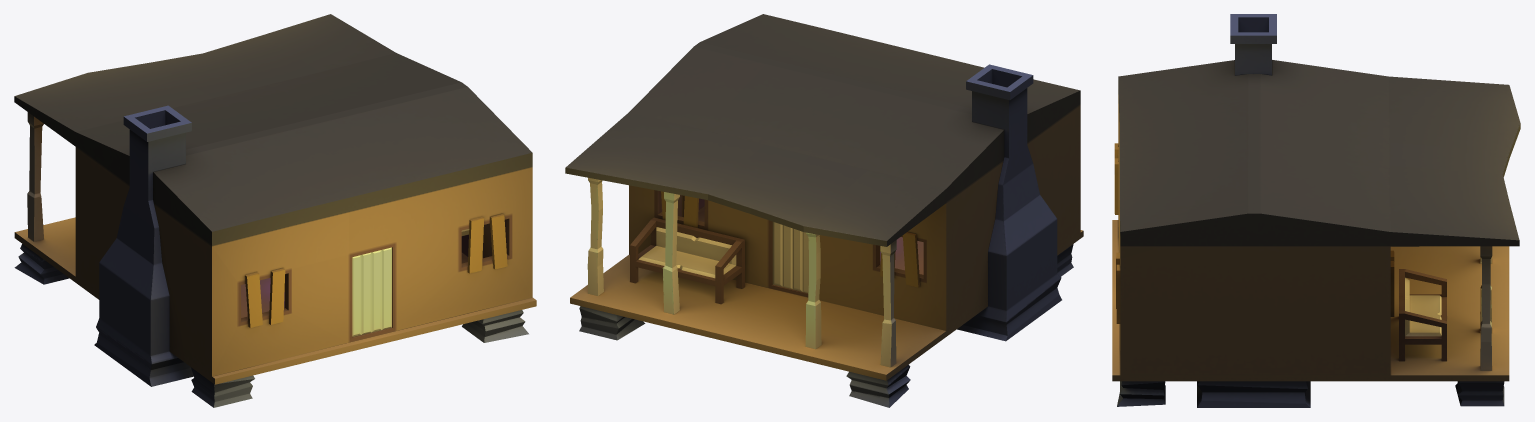
Rendered from scene_PlayerHouseGameBoard.fbx.
The picture shows the model from 3 angles, left to right: view 1: azimuth 30°, elevation 25°; view 2: azimuth 150°, elevation 25°; view 3: azimuth 270°, elevation 25°; orthographic projection.
Visible parts, largest first — view 1: PlayerHouseGameBoard; view 2: PlayerHouseGameBoard; view 3: PlayerHouseGameBoard.
Boxes of the visible parts, x1,y1,x2,y2 form: PlayerHouseGameBoard: (14, 14, 536, 407); PlayerHouseGameBoard: (565, 14, 1083, 407); PlayerHouseGameBoard: (1112, 14, 1520, 407).
Bounding box in the file's own units: 7.65 × 5.08 × 7.96.
